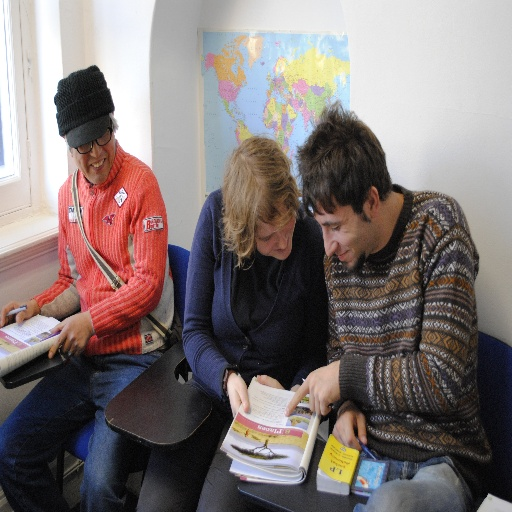hand: (284, 358, 341, 416), (40, 314, 81, 366), (330, 399, 367, 454), (226, 373, 249, 416), (0, 300, 35, 327), (256, 371, 286, 393)
